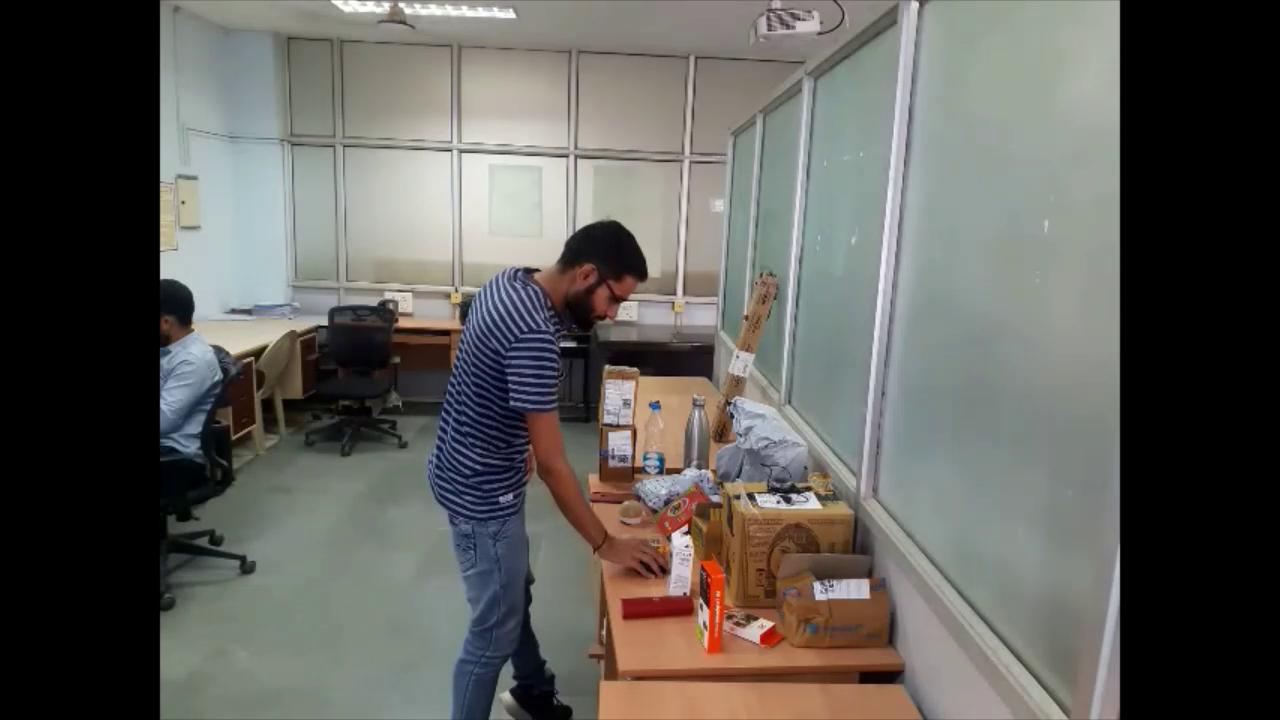Normal: (421, 213, 670, 720)
